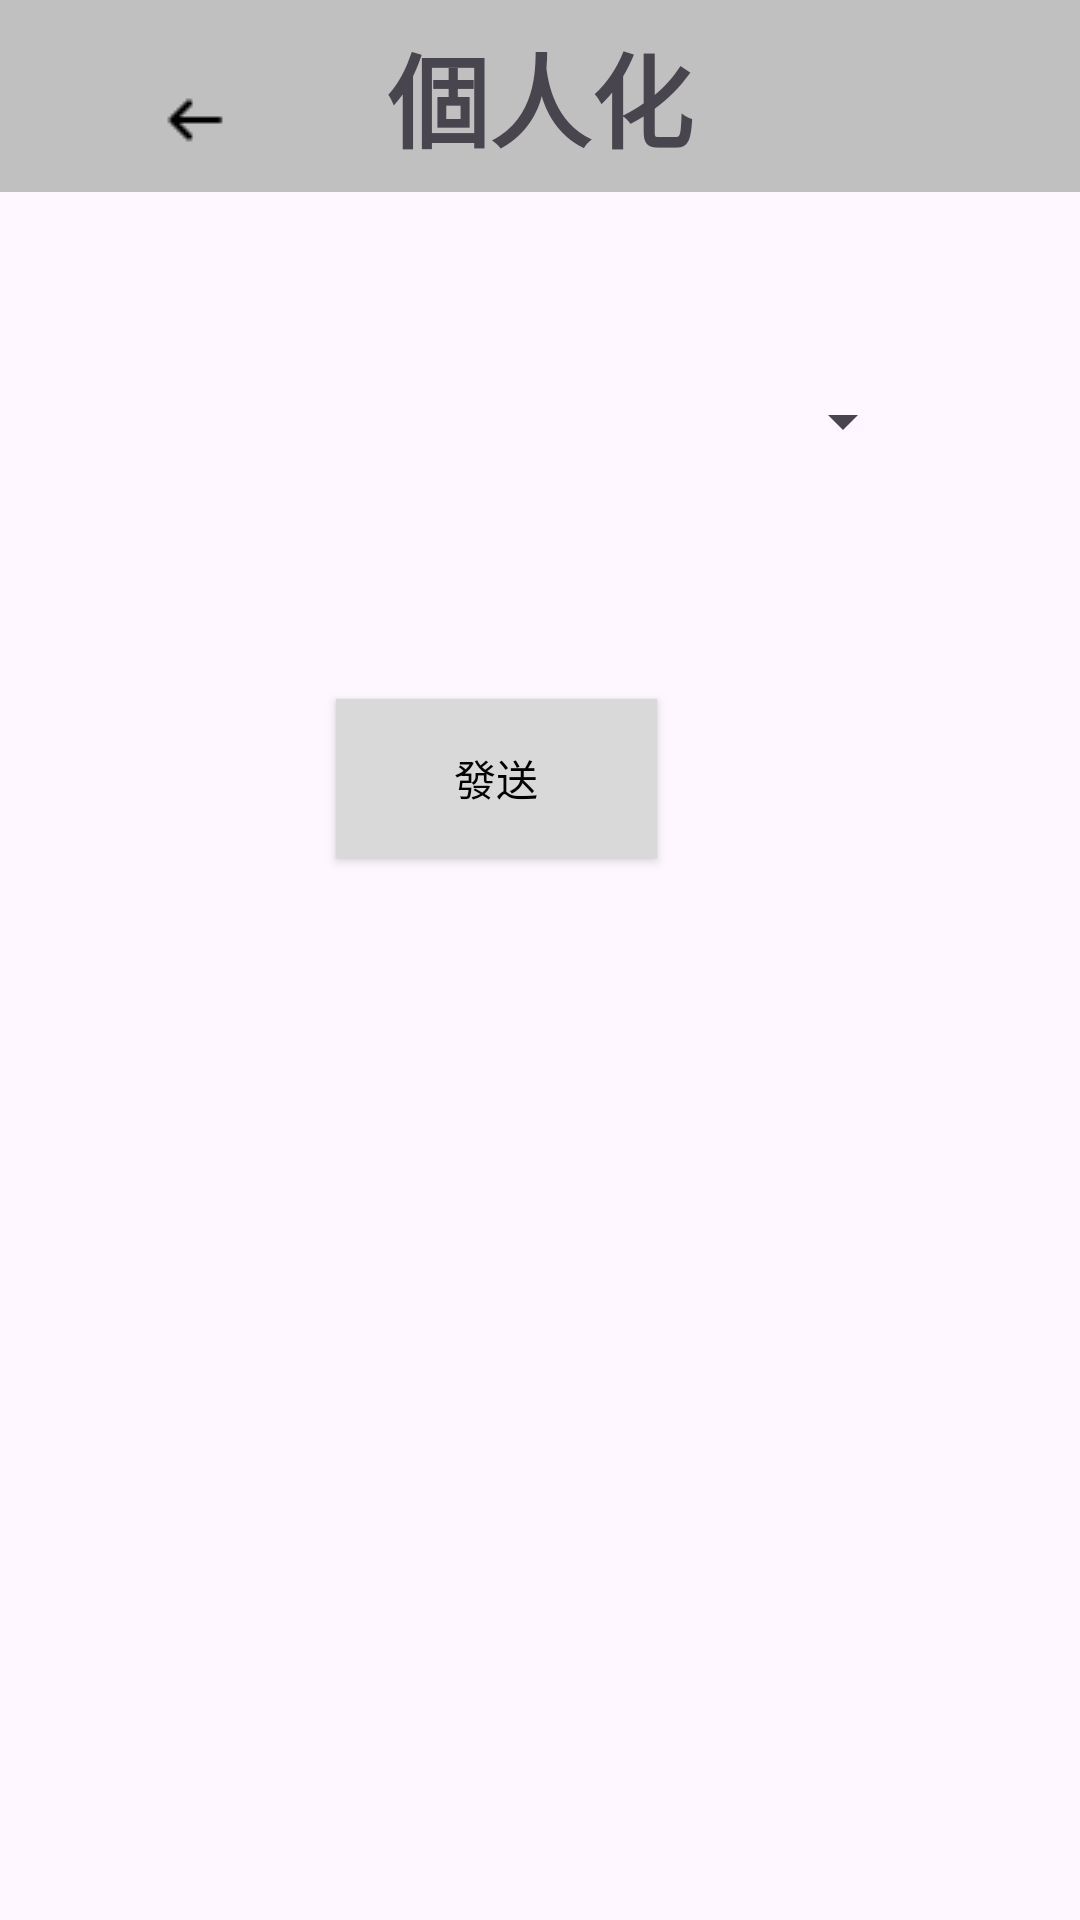

Locate icon controls on the screen. Image size 1080×1920, boxes as [x1,y1,x2,y2].
arrow left: [167,98,223,142]
